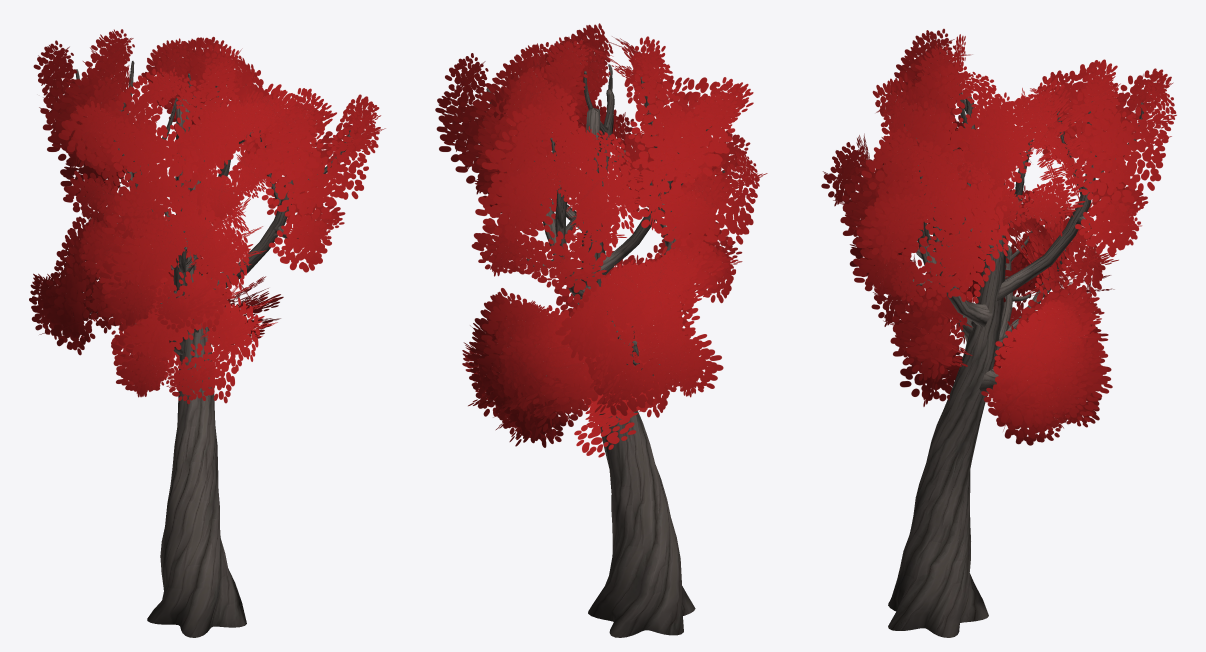
Rendered from Twisted_Tree.glb.
3 views of the same model, side by side, from view 1: azimuth 30°, elevation 25°; view 2: azimuth 150°, elevation 25°; view 3: azimuth 270°, elevation 25° (orthographic). The views are drawn at different scales.
Visible parts, largest first — view 1: TwistedTree_5; view 2: TwistedTree_5; view 3: TwistedTree_5.
Part boxes in pixels (x1,y1,x2,y2): TwistedTree_5: (29,29,385,637); TwistedTree_5: (435,23,767,637); TwistedTree_5: (821,28,1176,637).
Bounding box in the file's own units: 9.49 × 15.66 × 9.39.
Materials: 2 (2 with a texture image).
